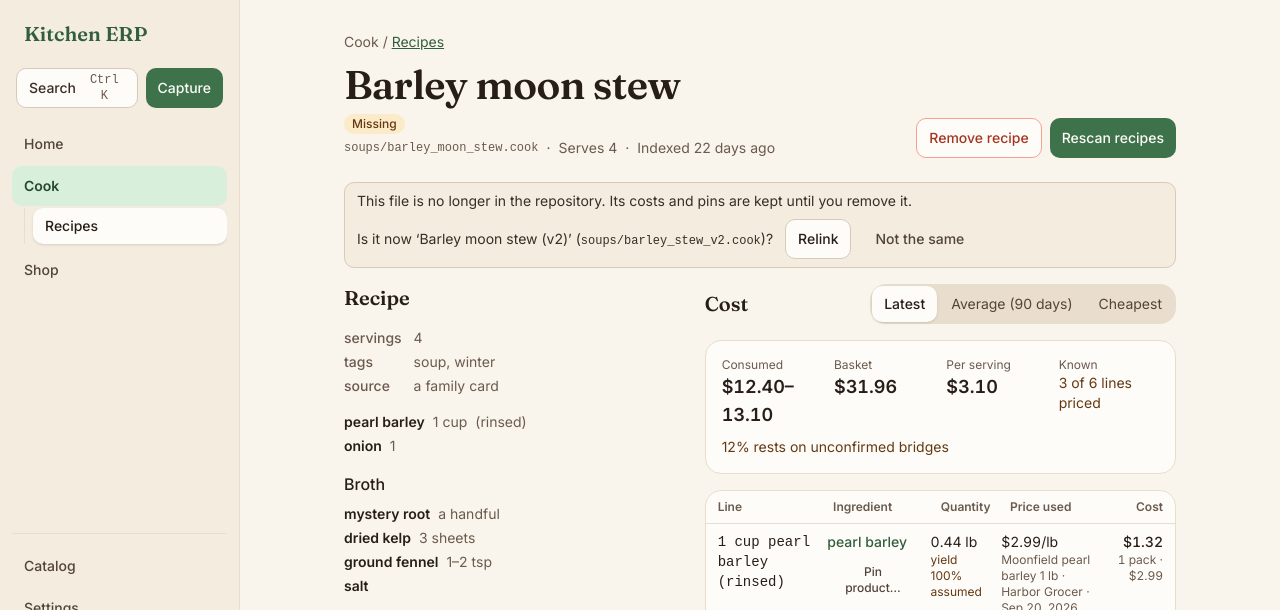
parse errors and missing files (UI-7.15) › offers Relink and Not the same on a missing recipe's proposal
Expected: the element with test id "relink-proposal" shows "Is it now ‘Barley moon stew (v2)’ (soups/barley_stew_v2.cook)?", 357,219 -> 976,259
Step 1. Click the button "Not the same" → (920, 239), box 864,219 -> 976,259
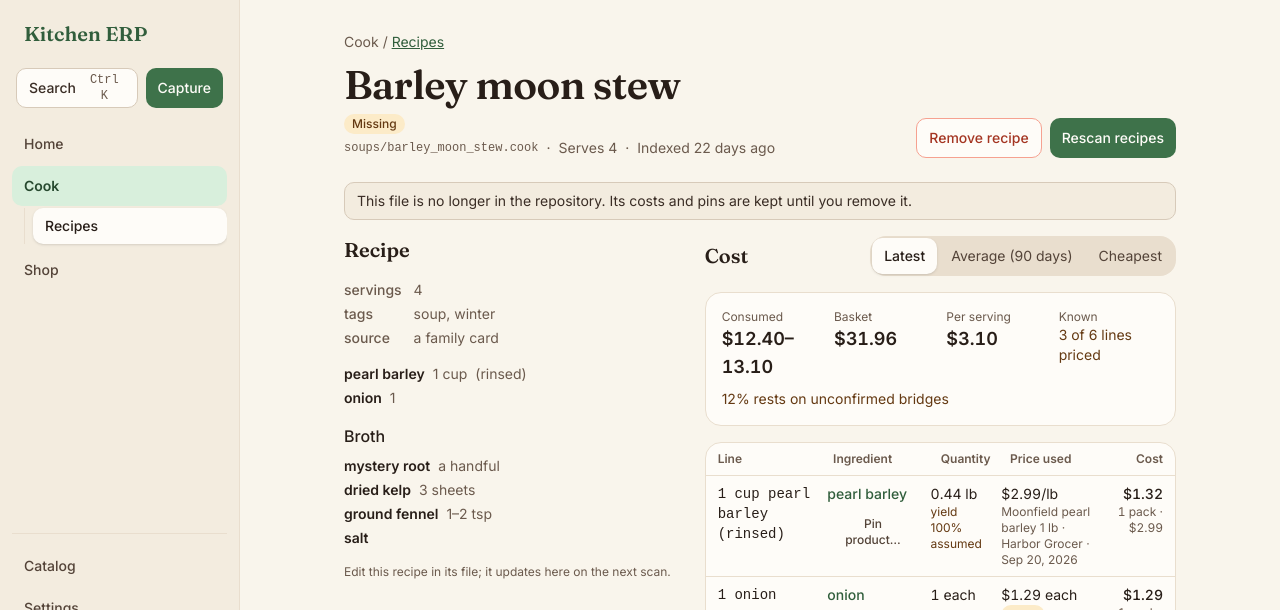
Now the element with test id "relink-proposal" is gone
